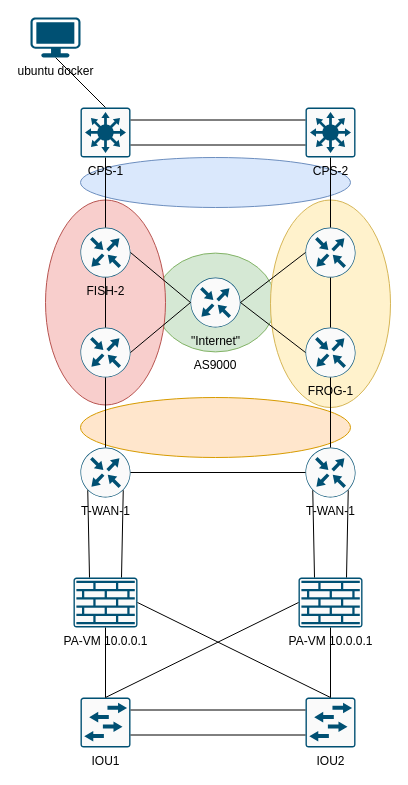
Some shapes in this 408 by 785 pixel diagram are drawn without their labels. The shapes that lost their labels are listed below. From the top down, each one's box as (x1, y1, x2, y2) in pixels, then its label:
(80, 156, 350, 208): AS4896
(304, 226, 356, 278): FROG-2
(44, 199, 166, 405): AS100
(270, 199, 390, 408): AS200
(80, 326, 130, 378): FISH-1
(80, 396, 350, 458): AS5000
